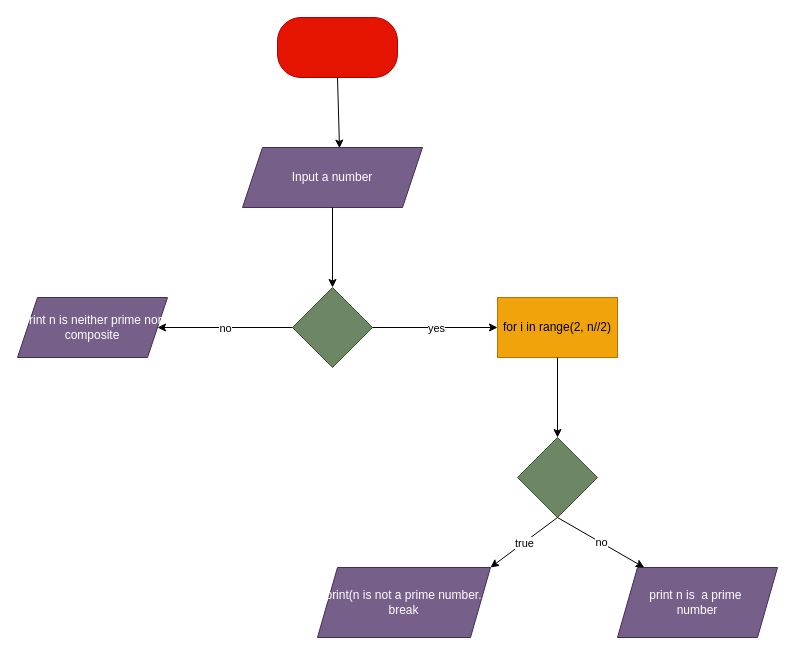
The diagram is 795 pixels wide and 655 high, and some of its shapes have lost their labels. The shapes that lost their labels are listed below. From the top down, each one's box as (x1, y1, x2, y2) in pixels, then its label:
(276, 16, 398, 78): start
(292, 286, 372, 368): if n>1
(516, 436, 598, 518): if (n%i)==0
